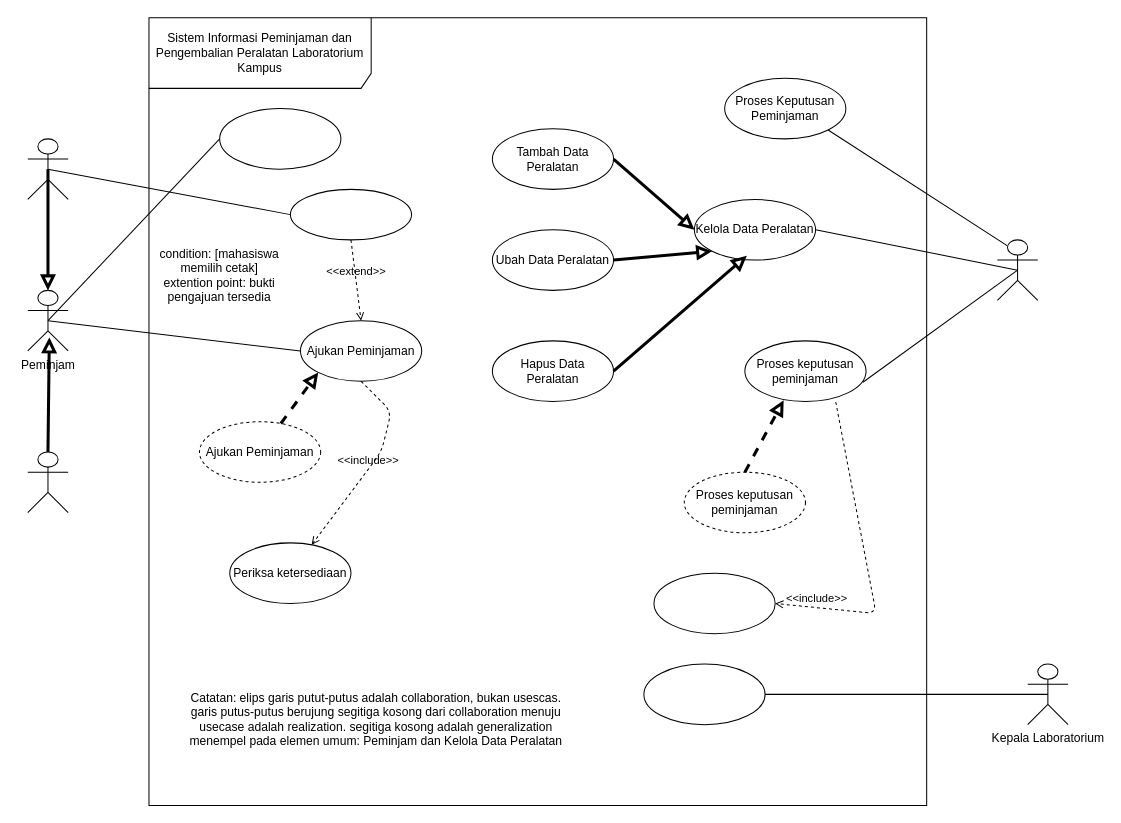
The diagram is 1121 pixels wide and 823 high, and some of its shapes have lost their labels. Here are the shapes that lost their labels. From the top down, the box of each, then its label:
(219, 108, 341, 169): Lihat Ketersediaan Peralatan
(27, 138, 68, 199): Mahasiswa
(289, 188, 412, 240): Cetak bukti pengajuan
(996, 239, 1038, 300): Petugas Laboratorium
(27, 451, 68, 513): Dosen
(653, 572, 775, 634): Periksa Kondisi Peralatan
(643, 663, 765, 725): Lihat laporan peminjaman
